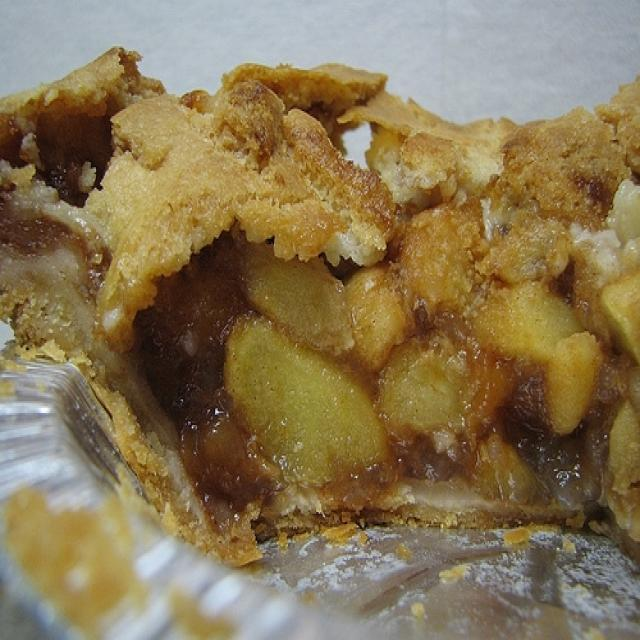Apple: (16, 82, 637, 543)
